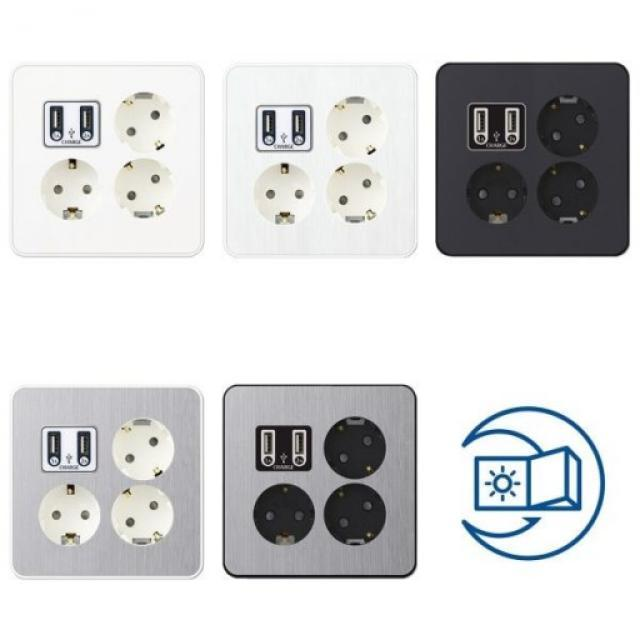typeb: (214, 366, 429, 584), (0, 55, 214, 270), (220, 52, 430, 267), (430, 52, 631, 266), (8, 375, 212, 582)
